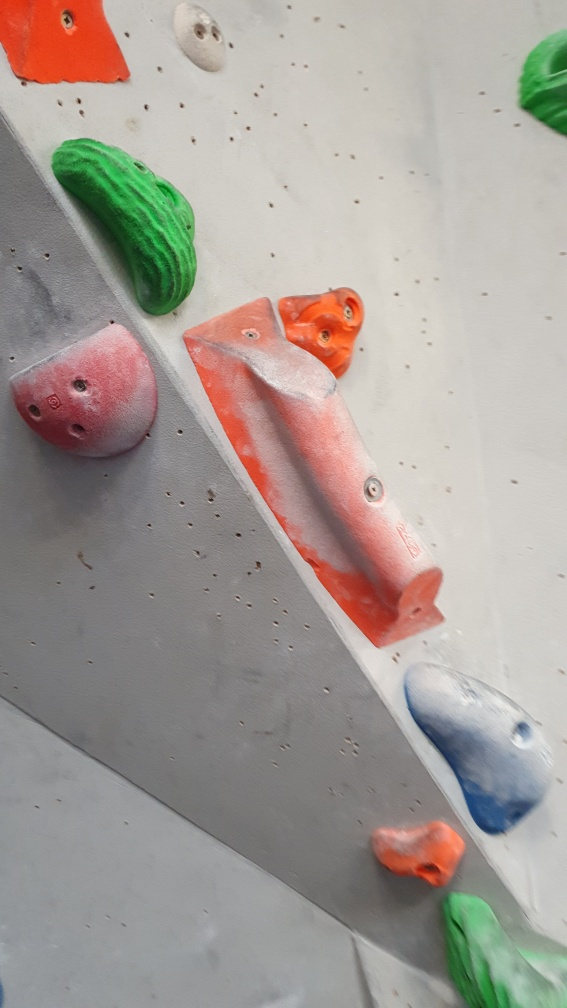Jug: (49, 135, 199, 317), (436, 884, 567, 1004)
Pinch: (179, 291, 452, 653), (398, 646, 559, 843)
Sloper: (14, 324, 160, 464)
